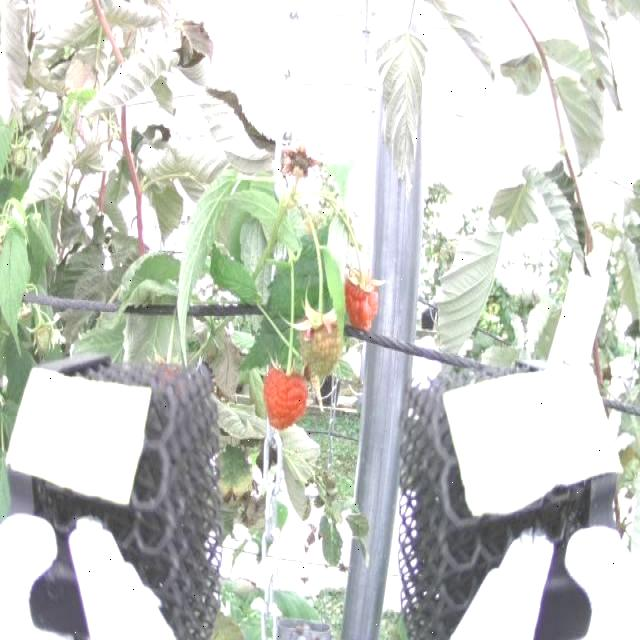Riped berries: (261, 367, 309, 432), (342, 266, 388, 332)
